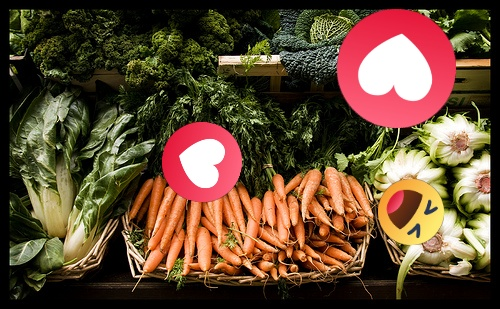haha: (378, 179, 444, 245)
love: (337, 9, 456, 128), (162, 122, 242, 202)
